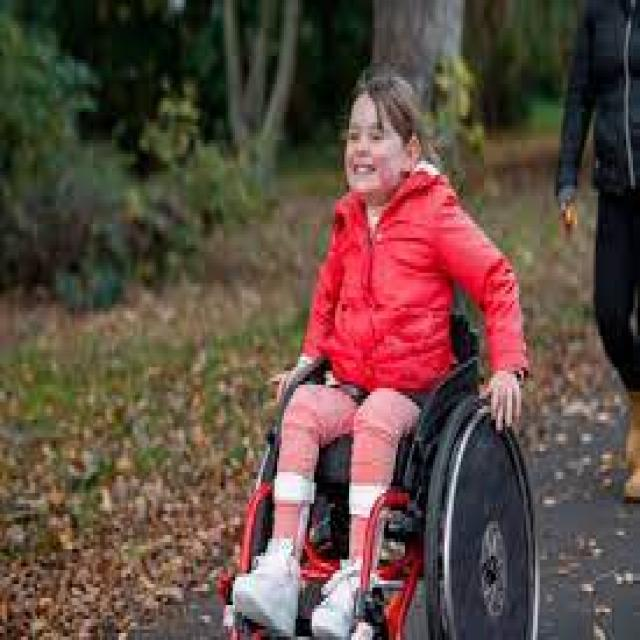wheelchairs: (207, 157, 560, 640)
